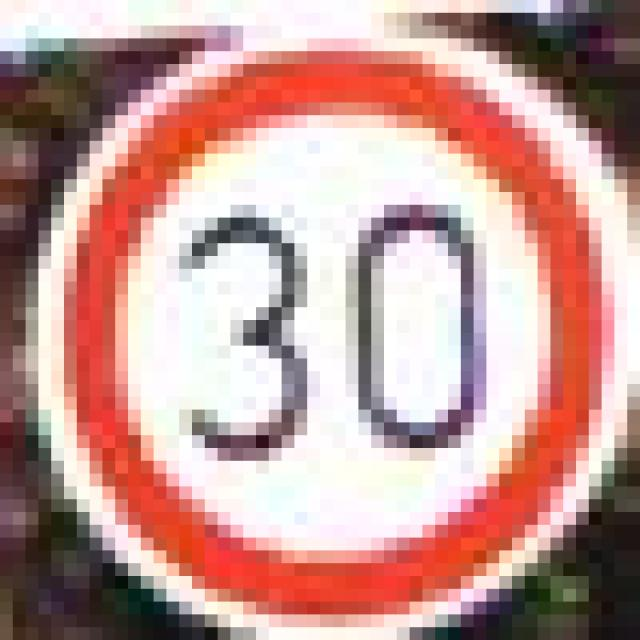SPEED_LIMIT_30: (13, 13, 627, 627)
